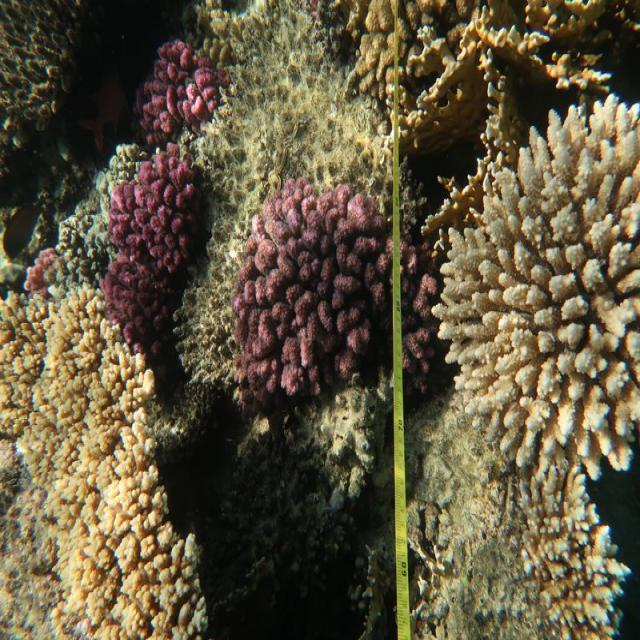Bleached Coral: (437, 95, 640, 483), (0, 290, 204, 640)
Healthy Coral: (232, 172, 431, 389), (99, 142, 211, 363), (508, 494, 640, 636), (133, 33, 222, 134)
